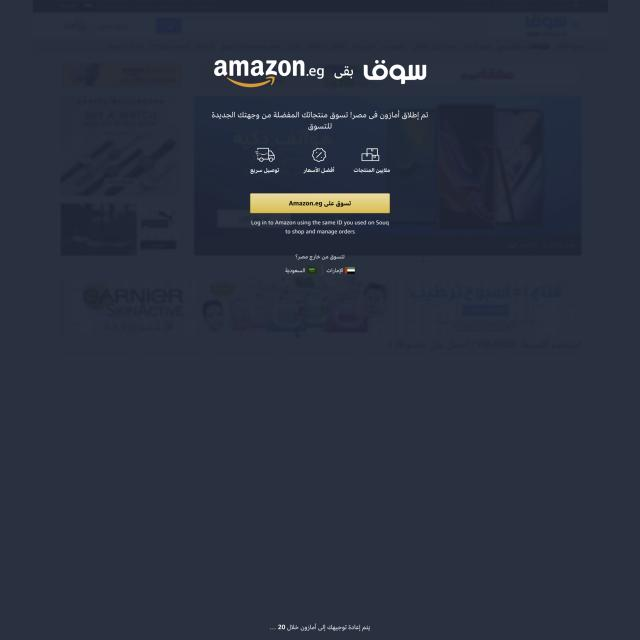logo: (208, 55, 326, 88)
